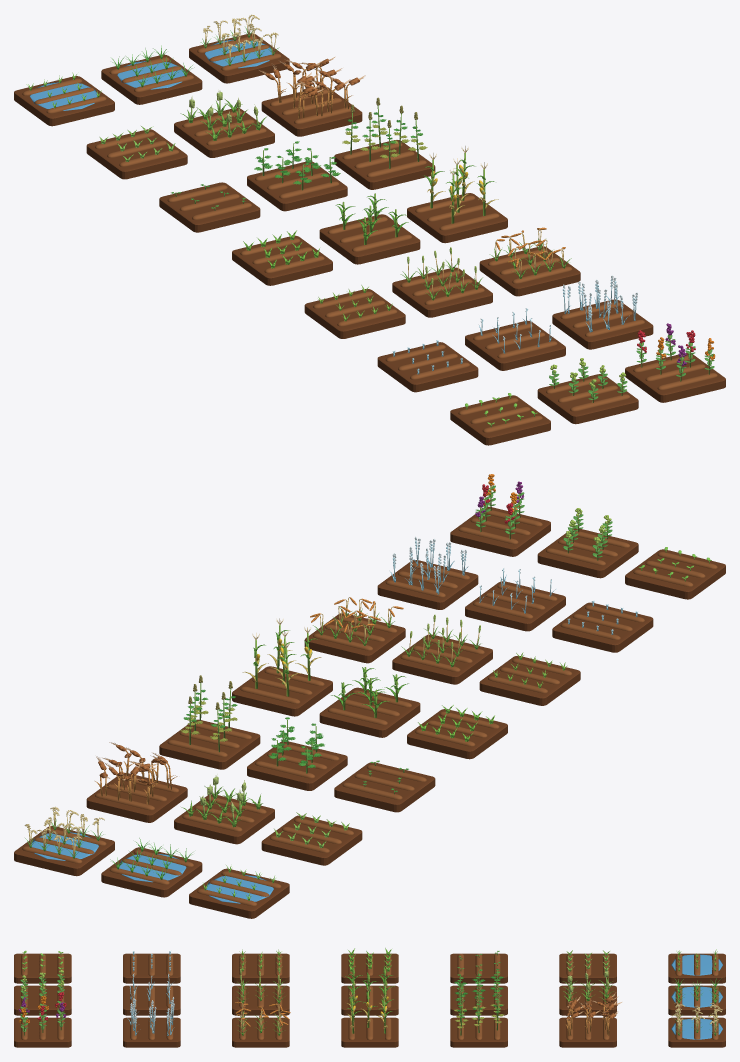
Rendered from cultures2.glb.
3 renders of one model, top to bottom at view 1: azimuth 30°, elevation 25°; view 2: azimuth 150°, elevation 25°; view 3: azimuth 270°, elevation 25°, orthographic. The views are drawn at different scales.
Parts seen in each view (by area): view 1: terre.006, terre.015, terre.016, terre.018, terre.012, terre.010, terre.011, terre.007, terre.003, terre.019, terre.008, terre.020 (+12 smaller); view 2: terre.006, terre.015, terre.018, terre.016, terre.012, terre.011, terre.010, terre.008, terre.007, terre.003, terre.017, terre.013 (+12 smaller); view 3: terre.015, terre.017, terre.014, terre.011, terre.012, terre.005, terre.008, terre.020, terre.003, terre.009, terre.006, terre.018 (+12 smaller).
Boxes of the visible parts, box(x1,y1,x2,y2) form: terre.006: box(159, 182, 260, 232); terre.015: box(377, 342, 478, 392); terre.016: box(465, 320, 565, 370); terre.018: box(450, 395, 550, 445); terre.012: box(304, 289, 405, 338); terre.010: box(319, 214, 420, 264); terre.011: box(407, 193, 507, 243); terre.007: box(247, 161, 347, 211); terre.003: box(86, 129, 187, 179); terre.019: box(537, 374, 638, 424); terre.008: box(334, 140, 435, 189); terre.020: box(625, 353, 725, 402); terre.006: box(334, 762, 435, 812); terre.015: box(552, 602, 653, 652); terre.018: box(625, 549, 725, 599); terre.016: box(465, 581, 565, 631); terre.012: box(479, 656, 580, 705); terre.011: box(232, 666, 332, 716); terre.010: box(319, 687, 420, 737); terre.008: box(159, 719, 260, 769); terre.007: box(247, 741, 347, 790); terre.003: box(261, 815, 362, 865); terre.017: box(377, 560, 478, 609); terre.013: box(392, 634, 492, 684); terre.015: box(123, 953, 180, 983); terre.017: box(123, 1017, 180, 1047); terre.014: box(232, 1017, 289, 1047); terre.011: box(341, 1017, 398, 1047); terre.012: box(232, 953, 289, 983); terre.005: box(559, 1017, 616, 1047); terre.008: box(450, 1017, 507, 1047); terre.020: box(14, 1017, 71, 1047); terre.003: box(559, 953, 616, 983); terre.009: box(341, 953, 398, 983); terre.006: box(450, 953, 507, 983); terre.018: box(14, 953, 71, 983).
Size of the model in its own units: 7.12 by 1.75 by 23.5.
